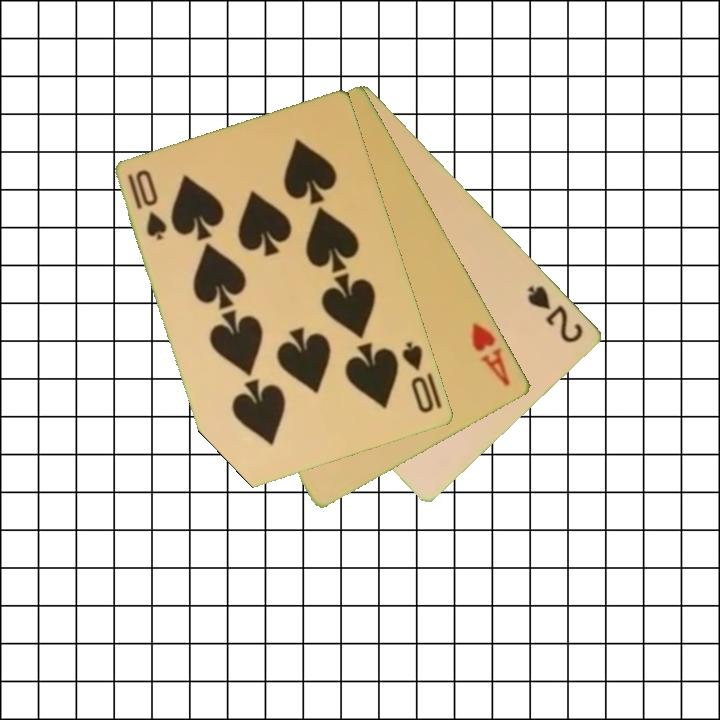10s: (124, 166, 171, 244), (399, 338, 438, 417)
2s: (525, 282, 587, 346)
Ah: (468, 319, 514, 390)
